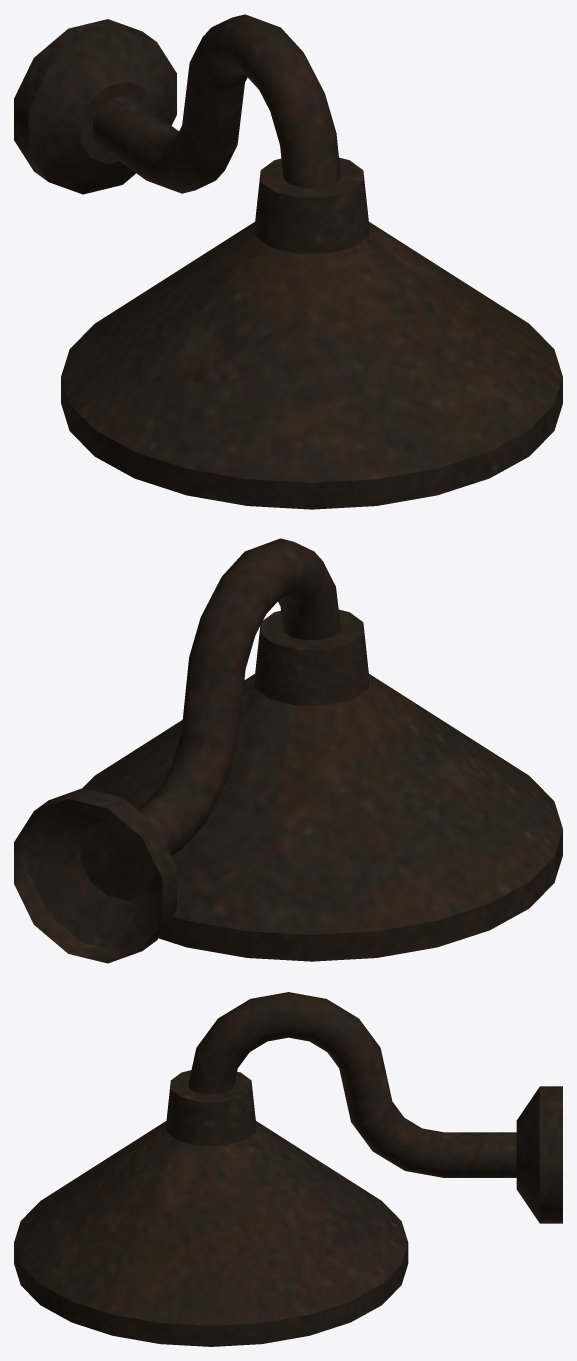
The model's file is lamp_mx_3_on.obj.
3 views of the same model, one above another, from view 1: azimuth 30°, elevation 25°; view 2: azimuth 150°, elevation 25°; view 3: azimuth 270°, elevation 25° (orthographic). The views are drawn at different scales.
Visible parts, largest first — view 1: lamp_mx_3_on; view 2: lamp_mx_3_on; view 3: lamp_mx_3_on.
Boxes of the visible parts, box(x1,y1,x2,y2) form: lamp_mx_3_on: box(14, 14, 562, 509); lamp_mx_3_on: box(14, 538, 562, 963); lamp_mx_3_on: box(14, 992, 562, 1346).
Bounding box in the file's own units: 0.51 × 0.418 × 0.71.
